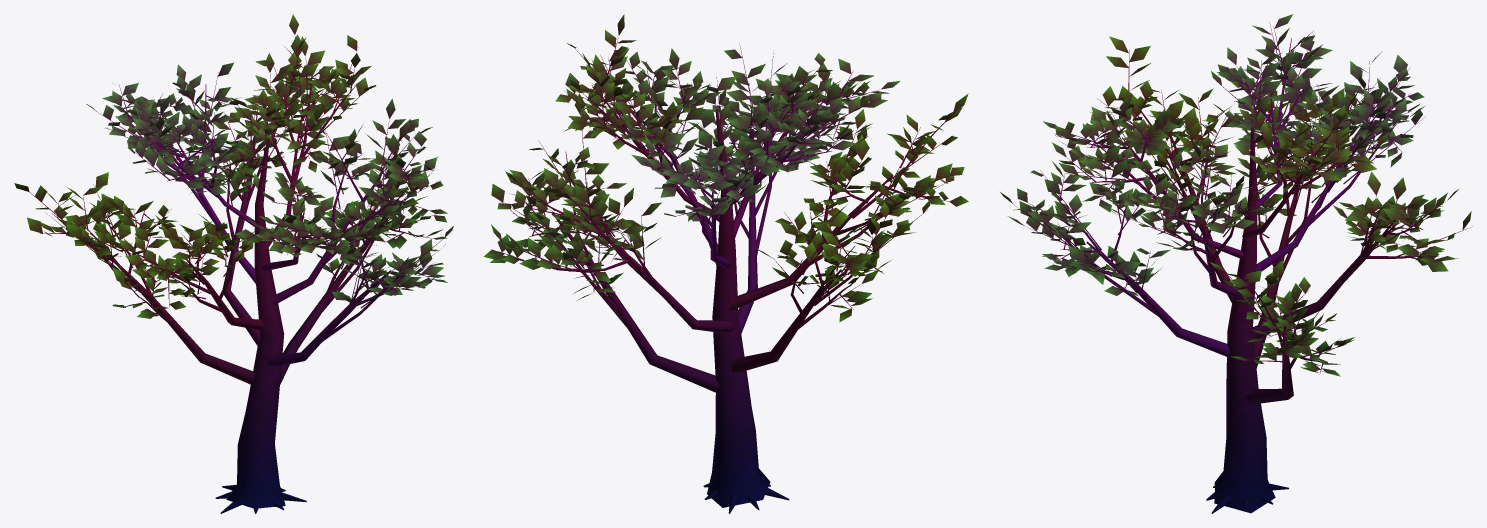
The model's file is field_elm_lod1.glb.
3 views of the same model, side by side, from view 1: azimuth 30°, elevation 25°; view 2: azimuth 150°, elevation 25°; view 3: azimuth 270°, elevation 25° (orthographic). The views are drawn at different scales.
Parts seen in each view (by area): view 1: field_elm_lod1; view 2: field_elm_lod1; view 3: field_elm_lod1.
Boxes of the visible parts, bbox=[...] form: field_elm_lod1: bbox=[14, 14, 453, 513]; field_elm_lod1: bbox=[483, 14, 968, 513]; field_elm_lod1: bbox=[1000, 14, 1472, 513].
Bounding box in the file's own units: 8.17 × 8.75 × 8.25.
Materials: 2 (2 with a texture image).
